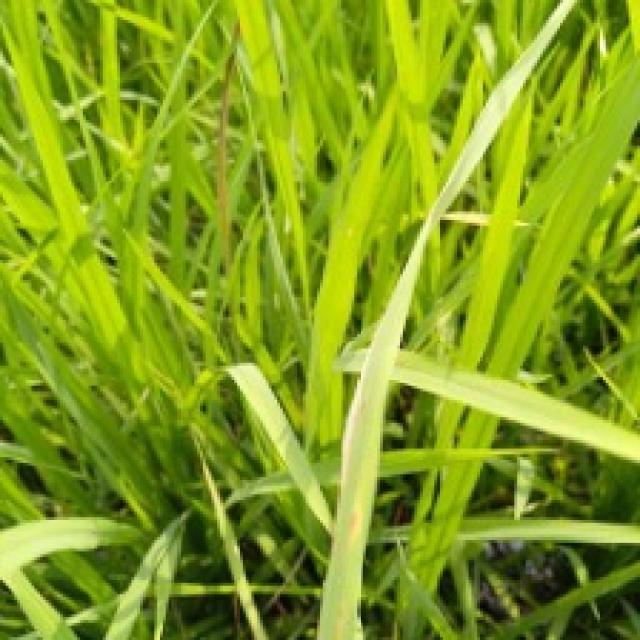Rice___Bacterial_Leaf_Blight: (314, 0, 583, 637)
